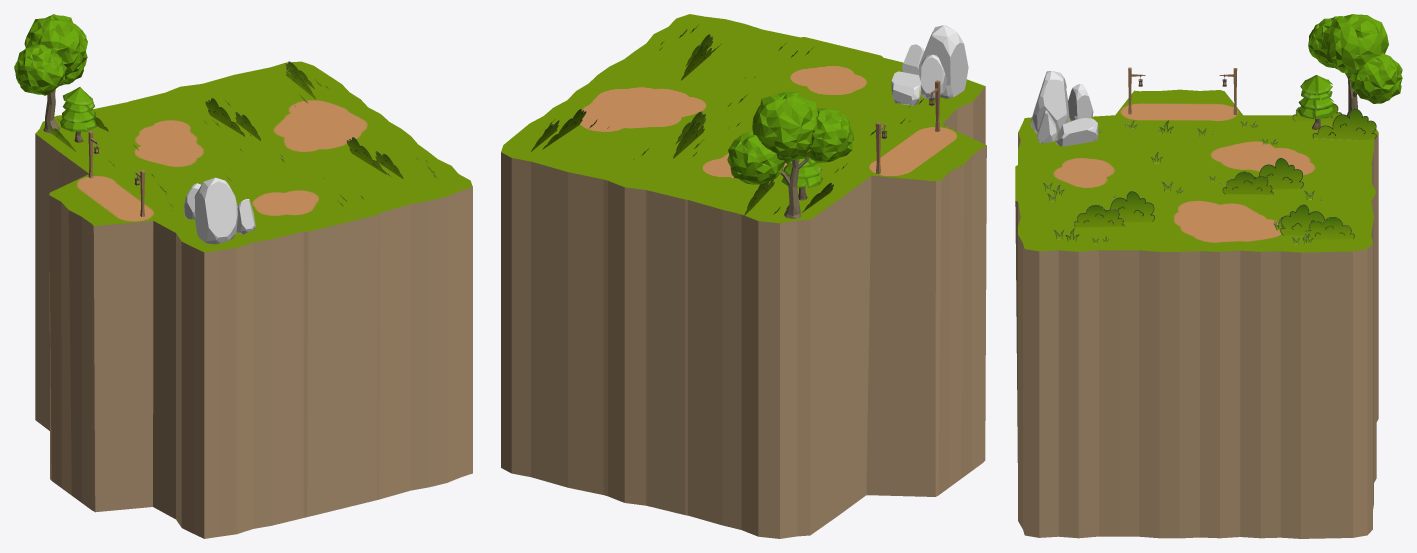
Rendered from Map 1_2.fbx.
3 views of the same model, side by side, from view 1: azimuth 30°, elevation 25°; view 2: azimuth 150°, elevation 25°; view 3: azimuth 270°, elevation 25° (orthographic). The views are drawn at different scales.
Parts seen in each view (by area): view 1: Plane.001, Plane.002, Tree, Icosphere.011, Circle.049, Icosphere.012; view 2: Plane.001, Plane.002, Tree, Icosphere.011, Icosphere.007, Icosphere.013, Circle.049; view 3: Plane.001, Plane.002, Tree, Icosphere.011, Circle.049, Plane.011, Plane.006, Plane.005, Icosphere.007, Plane.007, Plane.009, Plane.010 (+3 smaller).
Part boxes in pixels (bbox=[...]): Plane.001: bbox=[35, 134, 472, 538]; Plane.002: bbox=[35, 61, 472, 252]; Tree: bbox=[14, 14, 87, 133]; Icosphere.011: bbox=[194, 177, 237, 244]; Circle.049: bbox=[60, 87, 96, 142]; Icosphere.012: bbox=[236, 199, 255, 234]; Plane.001: bbox=[501, 86, 986, 538]; Plane.002: bbox=[501, 14, 986, 223]; Tree: bbox=[727, 90, 853, 218]; Icosphere.011: bbox=[918, 25, 968, 98]; Icosphere.007: bbox=[891, 71, 920, 105]; Icosphere.013: bbox=[921, 54, 946, 98]; Circle.049: bbox=[781, 157, 823, 200]; Plane.001: bbox=[1015, 89, 1378, 538]; Plane.002: bbox=[1015, 89, 1378, 252]; Tree: bbox=[1308, 14, 1402, 116]; Icosphere.011: bbox=[1030, 71, 1070, 133]; Circle.049: bbox=[1297, 75, 1335, 129]; Plane.011: bbox=[1312, 108, 1376, 140]; Plane.006: bbox=[1254, 158, 1303, 189]; Plane.005: bbox=[1105, 191, 1155, 222]; Icosphere.007: bbox=[1055, 118, 1098, 146]; Plane.007: bbox=[1222, 171, 1273, 194]; Plane.009: bbox=[1280, 204, 1324, 235]; Plane.010: bbox=[1303, 217, 1354, 239].
Bounding box in the file's own units: 12217 × 13828 × 12279.
20 materials, 15 textured.
